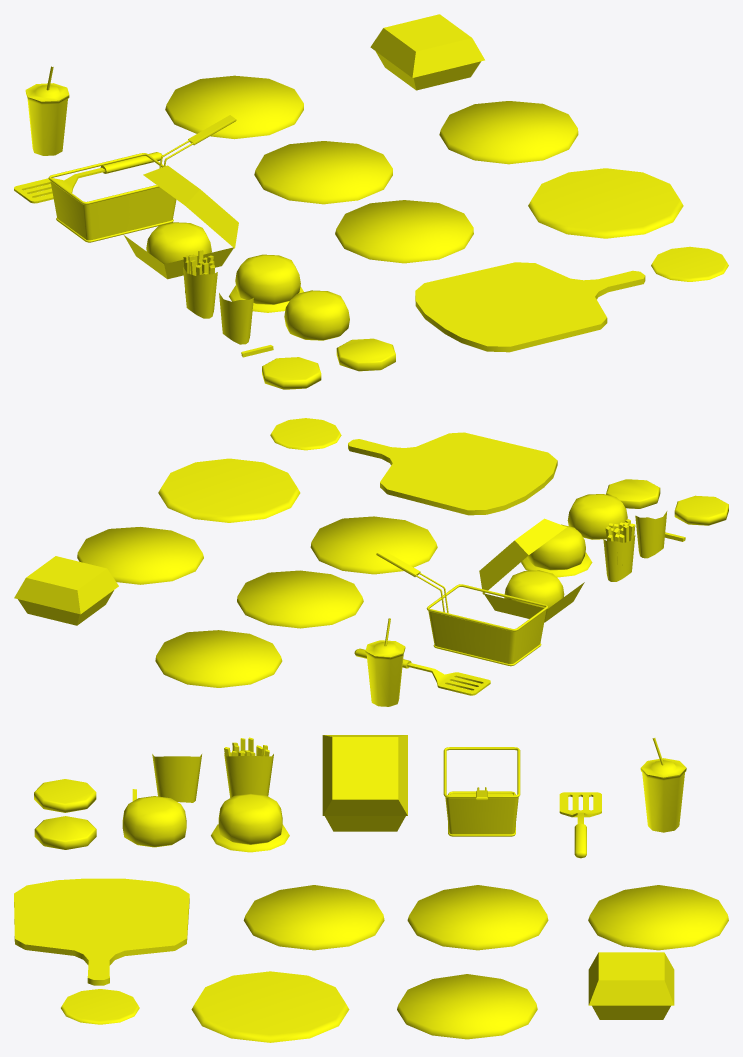
File: foodpack.gltf
3 views of the same model, one above another, from view 1: azimuth 30°, elevation 25°; view 2: azimuth 150°, elevation 25°; view 3: azimuth 270°, elevation 25° (orthographic). The views are drawn at different scales.
Visible parts, largest first — view 1: pizza_peel, woodenplate, pizza3, pizza2, prepizza, pizza1, frying_basket, burger_box, burger_box_order, hamburger_order, hamburger, soda (+6 smaller); view 2: pizza_peel, woodenplate, pizza2, pizza1, pizza3, prepizza, frying_basket, burger_box, burger_box_order, soda, hamburger_order, hamburger (+6 smaller); view 3: pizza_peel, woodenplate, burger_box_order, pizza2, pizza1, pizza3, prepizza, burger_box, frying_basket, hamburger_order, hamburger, soda (+6 smaller).
Part boxes in pixels (x1,y1,x2,y2): pizza_peel: (415, 262, 645, 352); woodenplate: (528, 168, 683, 238); pizza3: (335, 200, 473, 263); pizza2: (254, 141, 392, 204); prepizza: (439, 101, 578, 164); pizza1: (165, 75, 303, 139); frying_basket: (48, 115, 236, 242); burger_box: (370, 14, 484, 90); burger_box_order: (124, 165, 238, 279); hamburger_order: (229, 254, 303, 312); hamburger: (284, 290, 349, 340); soda: (25, 66, 69, 155); pizza_peel: (348, 432, 557, 515); woodenplate: (158, 458, 300, 522); pizza2: (237, 570, 363, 628); pizza1: (155, 630, 282, 687); pizza3: (310, 516, 437, 574); prepizza: (77, 527, 203, 584); frying_basket: (376, 549, 548, 666); burger_box: (14, 556, 118, 625); burger_box_order: (479, 518, 584, 622); soda: (365, 618, 405, 706); hamburger_order: (521, 524, 592, 577); hamburger: (567, 494, 627, 539); pizza_peel: (14, 878, 189, 985); woodenplate: (191, 971, 349, 1042); burger_box_order: (322, 735, 407, 831); pizza2: (407, 885, 548, 950); pizza1: (588, 885, 728, 950); pizza3: (243, 885, 384, 950); prepizza: (397, 974, 537, 1039); burger_box: (588, 952, 674, 1019); frying_basket: (443, 747, 520, 836); hamburger_order: (211, 793, 289, 852); hamburger: (122, 796, 186, 847); soda: (640, 738, 686, 832).
Bounding box in the file's own units: 4.23 × 0.7202 × 5.07.
15 materials, 15 textured.
